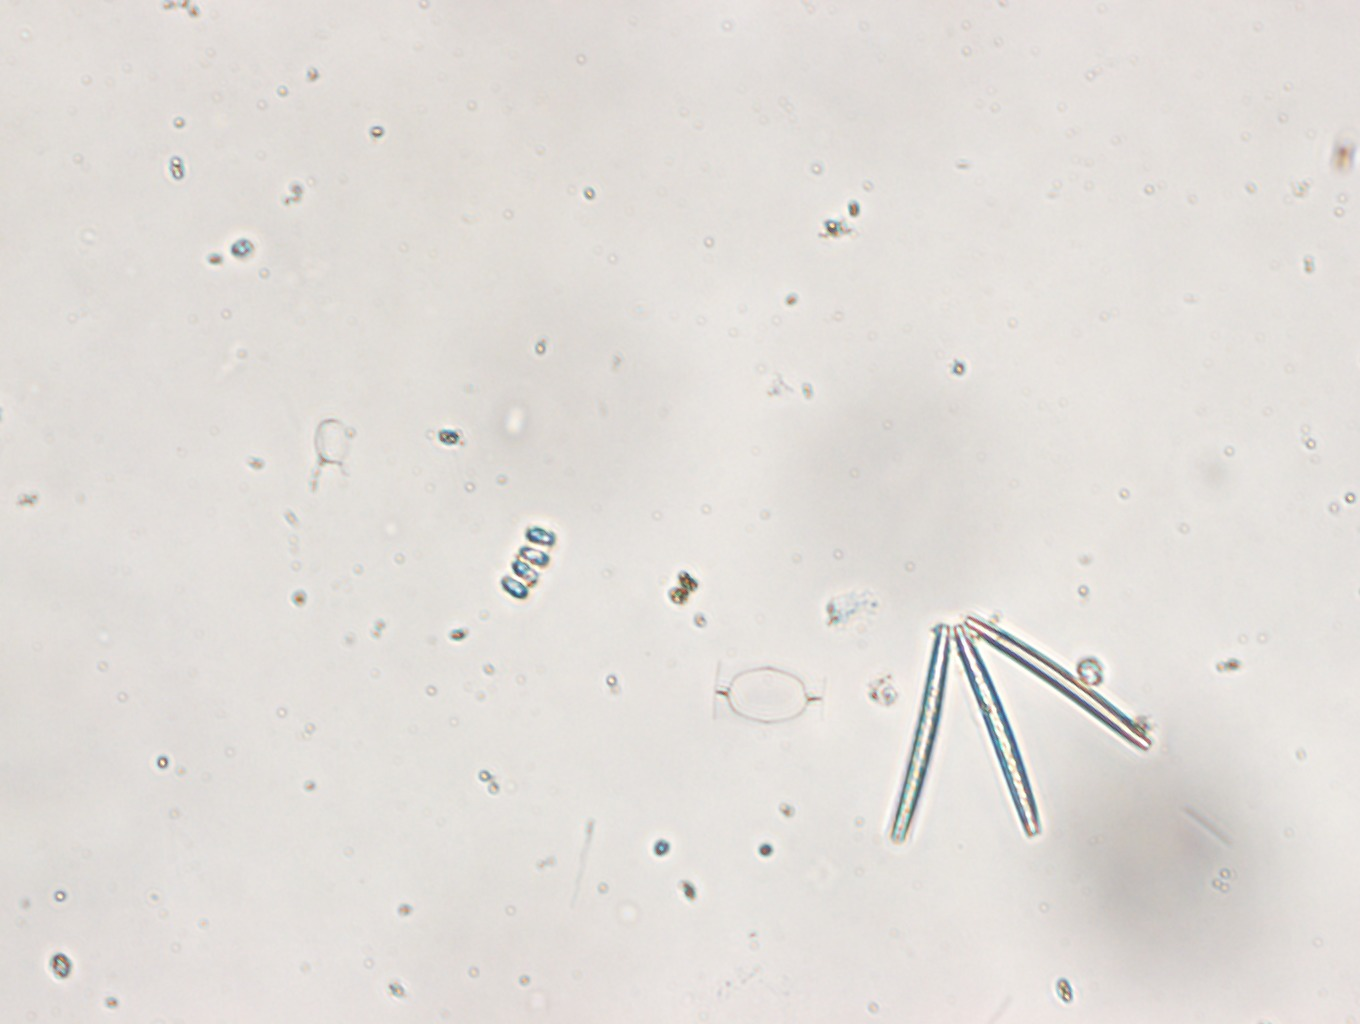thalassionema nitzschioides: (886, 616, 1151, 845)
